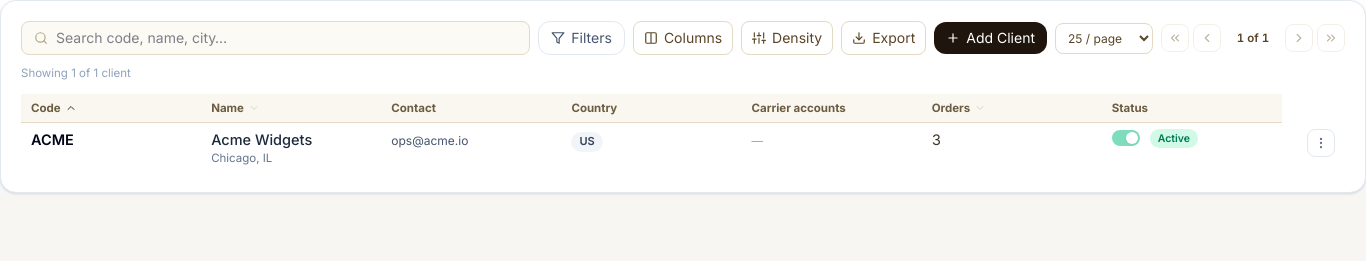
Test: ClientsPage · role gating › per-row kebab: USER sees Edit + Importer but NOT Delete
Expected: the text "ACME" is shown, [31,129,74,150]
Click the button named "Row actions".
click(1321, 143)  # box [1307,129,1335,157]
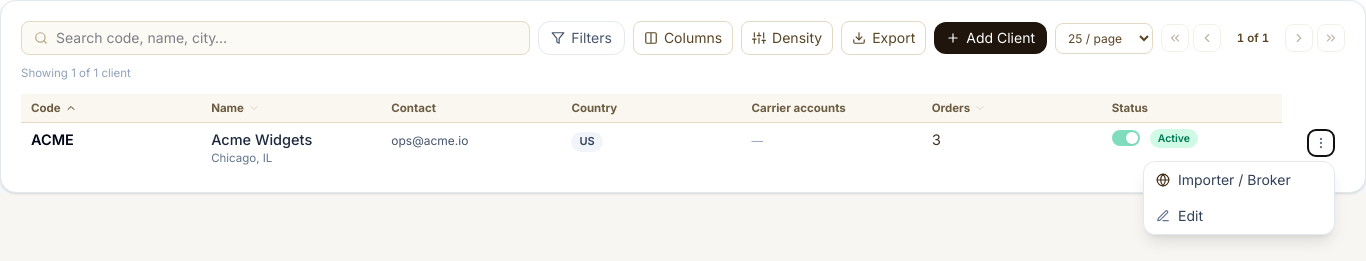
Result: the menu item "Edit" is shown at [1144,198,1334,234]
Result: the menu item "Importer / Broker" is shown at [1144,162,1334,198]
